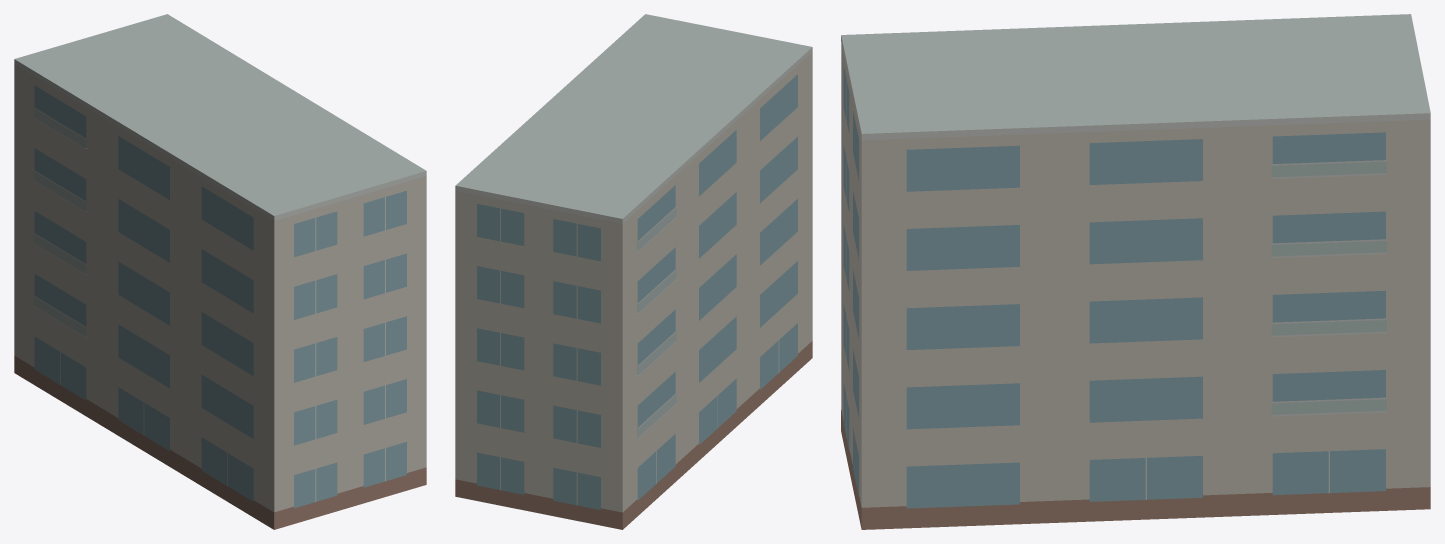
File: survey-upis-33031497.glb
The picture shows the model from 3 angles, left to right: view 1: azimuth 30°, elevation 25°; view 2: azimuth 150°, elevation 25°; view 3: azimuth 270°, elevation 25°; orthographic projection. The views are drawn at different scales.
Visible parts, largest first — view 1: survey-upis-33031497.tmp; view 2: survey-upis-33031497.tmp; view 3: survey-upis-33031497.tmp.
Part boxes in pixels (<box>): survey-upis-33031497.tmp: <box>14,14,426,529</box>; survey-upis-33031497.tmp: <box>455,14,812,529</box>; survey-upis-33031497.tmp: <box>841,14,1430,529</box>.
Bounding box in the file's own units: 9.91 × 15.25 × 20.59.
